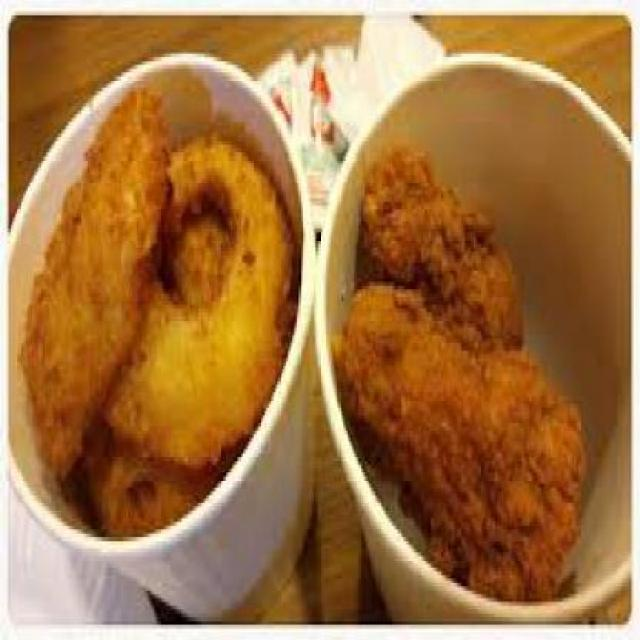chicken wings: (337, 102, 618, 602)
onion rings: (21, 76, 312, 556)
